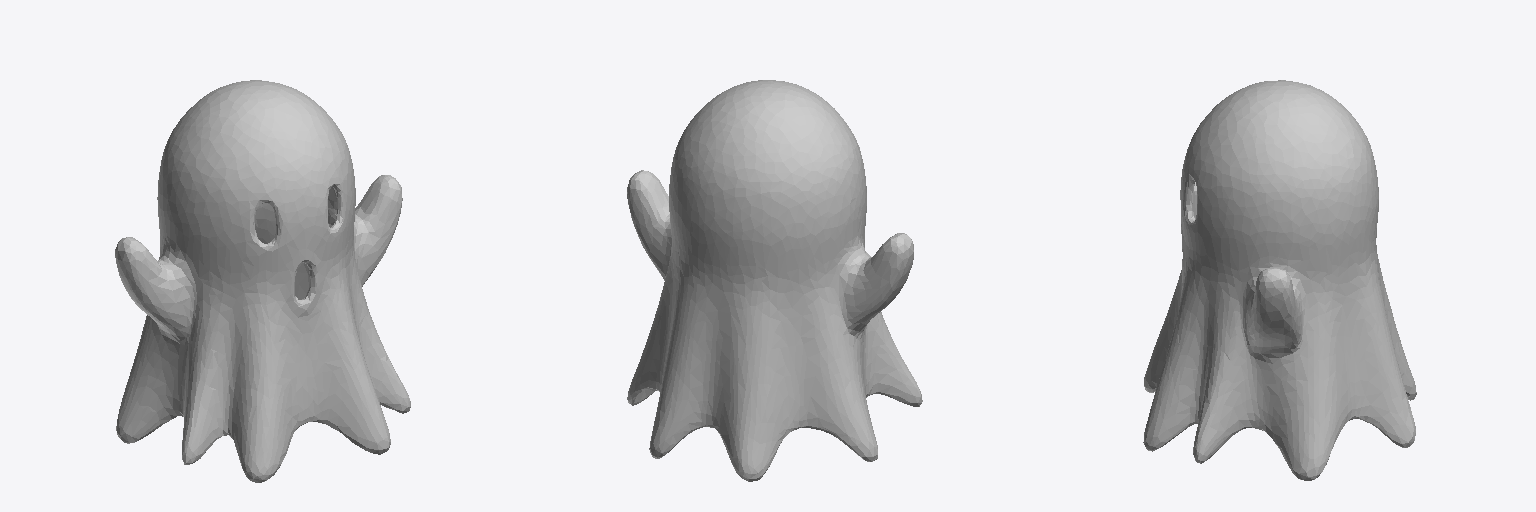
File: ghost.obj
3 renders of one model, left to right at view 1: azimuth 30°, elevation 25°; view 2: azimuth 150°, elevation 25°; view 3: azimuth 270°, elevation 25°, orthographic.
Visible parts, largest first — view 1: Mesh1; view 2: Mesh1; view 3: Mesh1.
Part boxes in pixels (left/top/right/bottom): Mesh1: left=115, top=80, right=410, bottom=482; Mesh1: left=627, top=80, right=922, bottom=481; Mesh1: left=1143, top=80, right=1416, bottom=480.
Size of the model in its own units: 1.75 by 2 by 1.48.